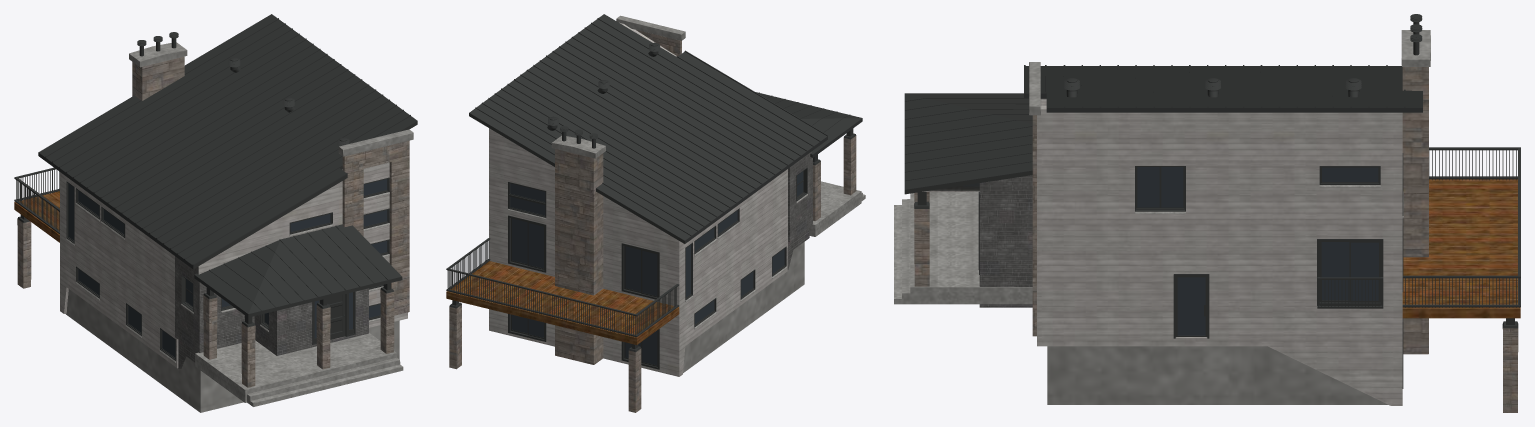
Rendered from house_modern.glb.
3 renders of one model, left to right at view 1: azimuth 30°, elevation 25°; view 2: azimuth 150°, elevation 25°; view 3: azimuth 270°, elevation 25°, orthographic. The views are drawn at different scales.
Size of the model in its own units: 7.75 by 7.97 by 14.
Materials: 7 (6 with a texture image).
